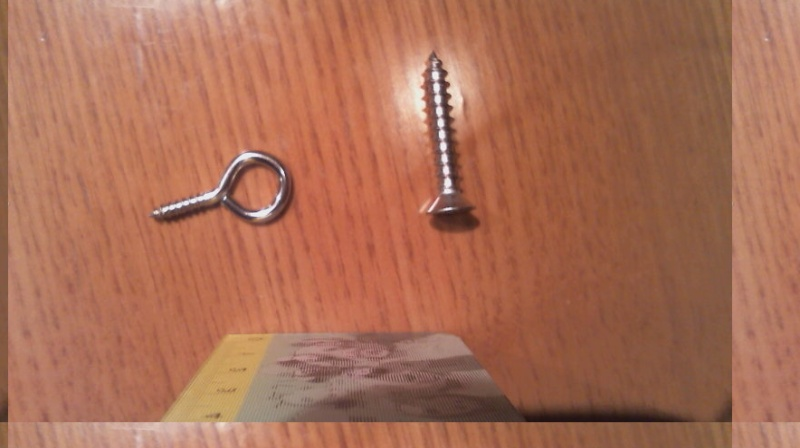O001: (141, 146, 297, 231)
S001: (415, 50, 481, 228)
